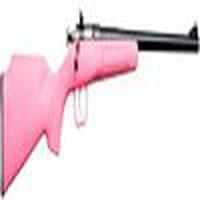gun: (1, 23, 200, 183)
